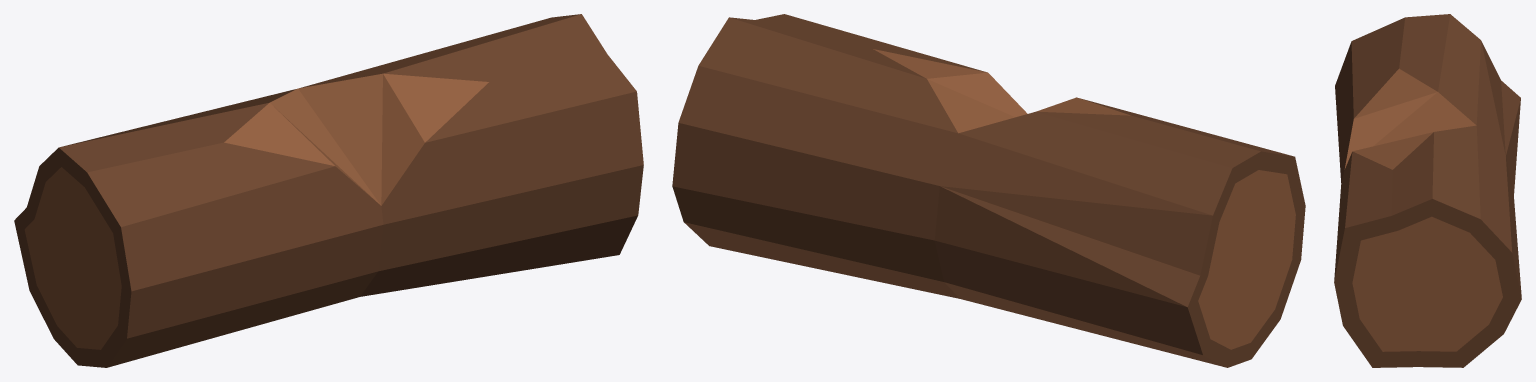
The model's file is Log_9_Brown.fbx.
3 views of the same model, side by side, from view 1: azimuth 30°, elevation 25°; view 2: azimuth 150°, elevation 25°; view 3: azimuth 270°, elevation 25° (orthographic). The views are drawn at different scales.
Visible parts, largest first — view 1: Log_9_Brown; view 2: Log_9_Brown; view 3: Log_9_Brown.
Part boxes in pixels (x1,y1,x2,y2): Log_9_Brown: (14, 14, 643, 367); Log_9_Brown: (672, 14, 1305, 367); Log_9_Brown: (1334, 14, 1521, 367).
Size of the model in its own units: 200 by 82.45 by 80.1.
